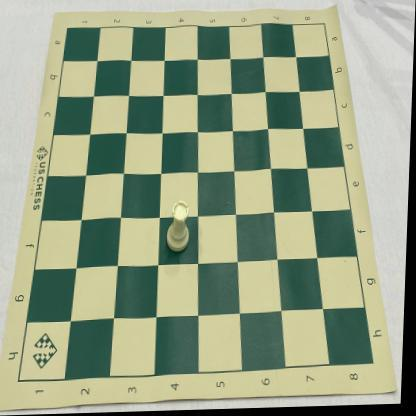white-rook: (168, 201, 192, 255)
